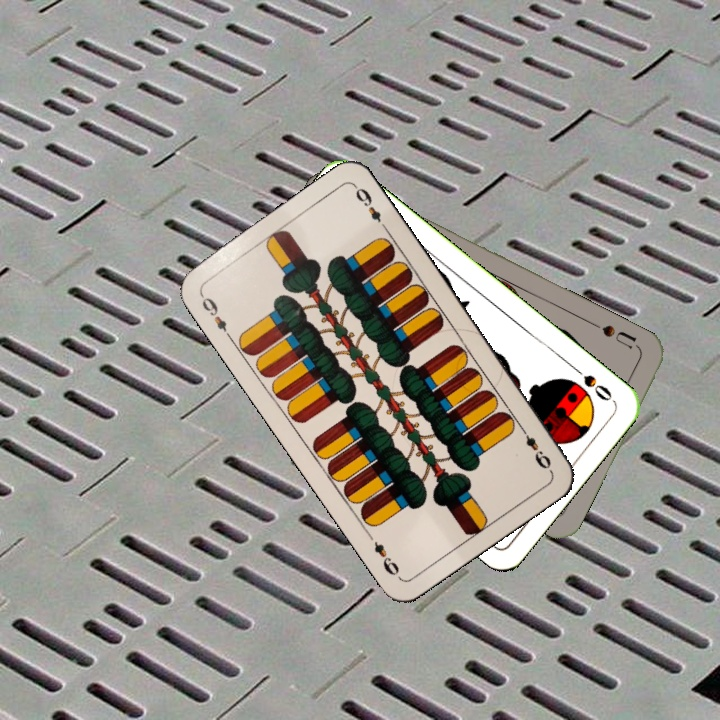E9: (515, 421, 554, 474), (196, 290, 235, 342)
SO: (568, 362, 617, 405)
SU: (588, 318, 639, 351)
